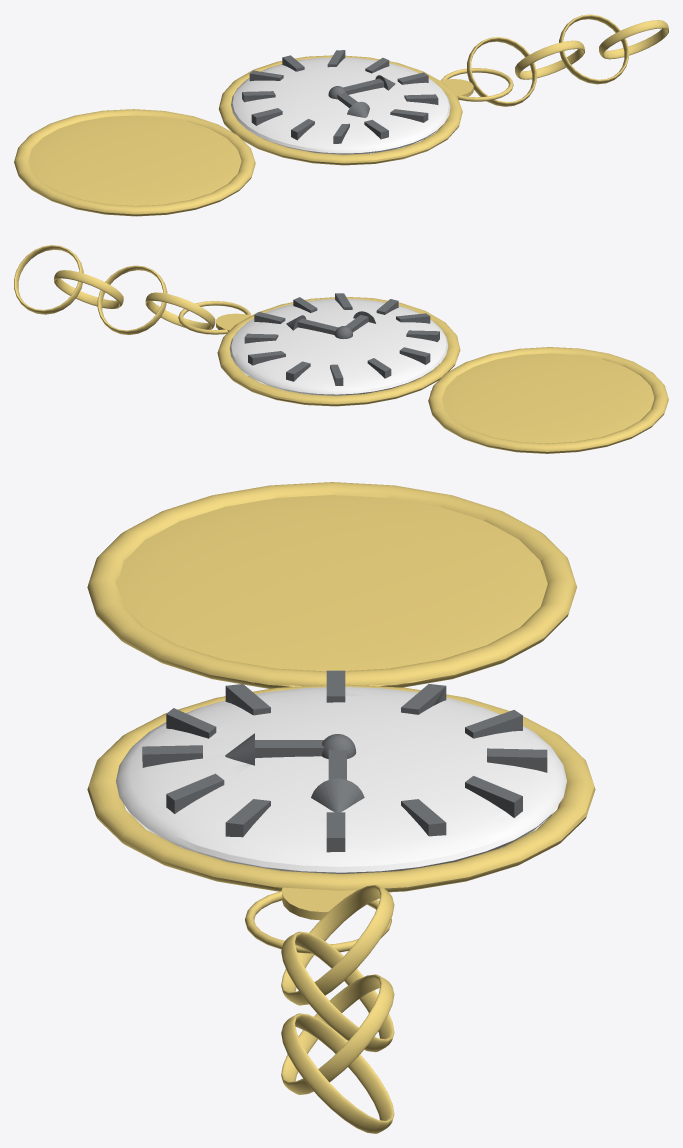
File: relogio.fbx
3 renders of one model, top to bottom at view 1: azimuth 30°, elevation 25°; view 2: azimuth 150°, elevation 25°; view 3: azimuth 270°, elevation 25°, orthographic. The views are drawn at different scales.
Visible parts, largest first — view 1: obj_0; view 2: obj_0; view 3: obj_0.
Part boxes in pixels (left/top/right/bottom): obj_0: left=14, top=14, right=668, bottom=216; obj_0: left=14, top=245, right=668, bottom=453; obj_0: left=87, top=482, right=595, bottom=1133.
Size of the model in its own units: 15900 by 1230 by 5520.
